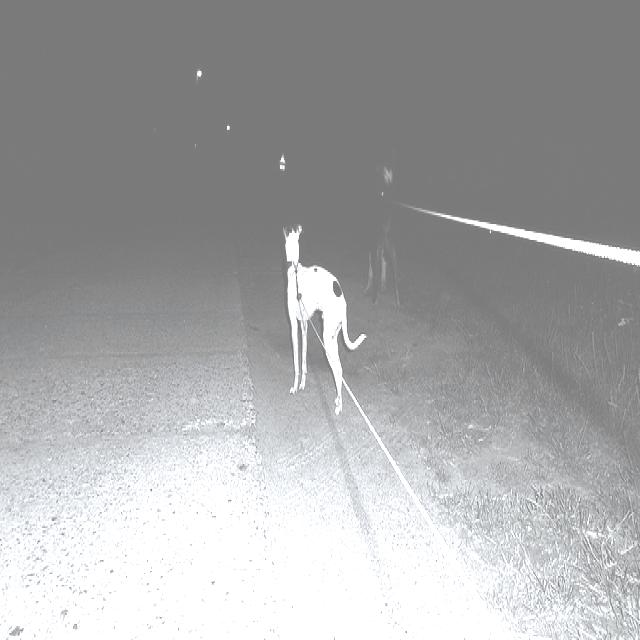Dog: (282, 218, 365, 410)
